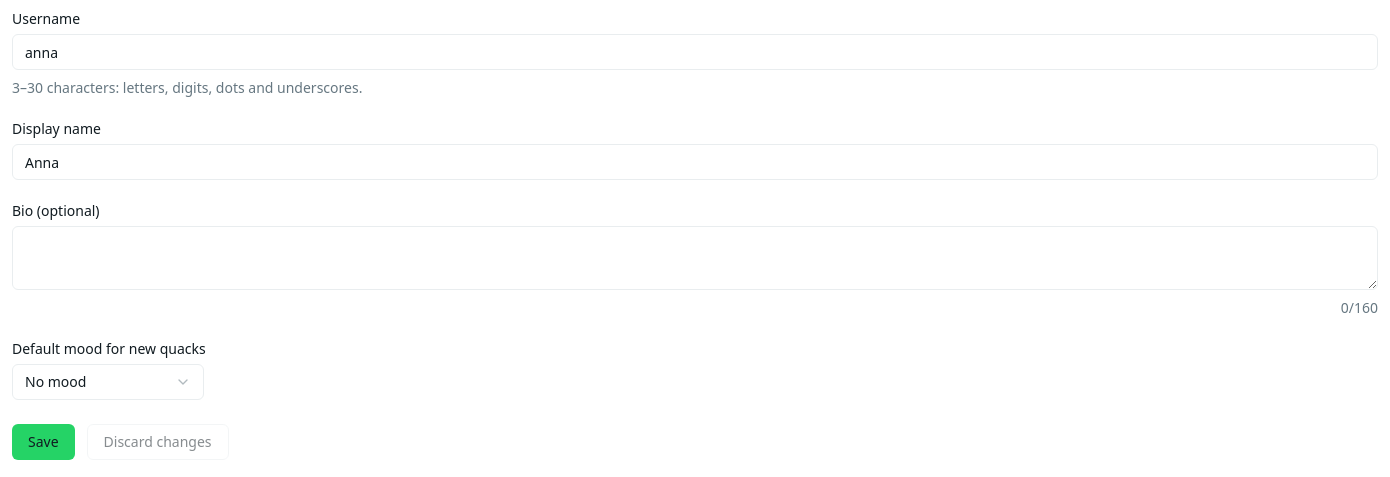
Scenario: ProfileForm › discards changes back to the saved values
Type "_x" into the field labelled "Username" at (695, 52), box [12, 34, 1378, 70]
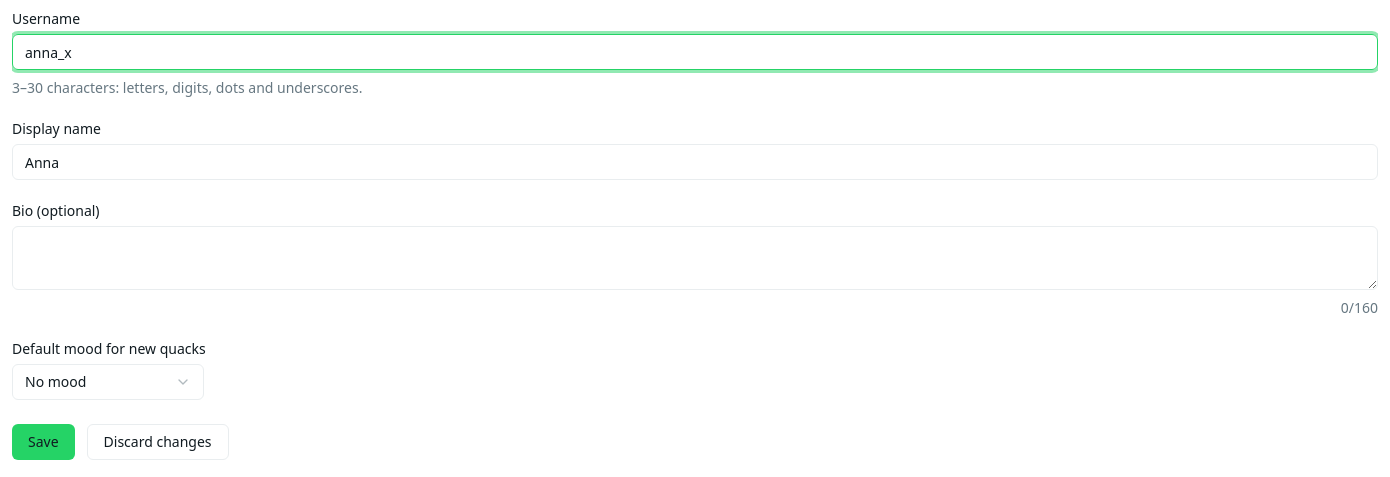
Click the button "Discard changes" at (158, 442), box [87, 424, 229, 460]
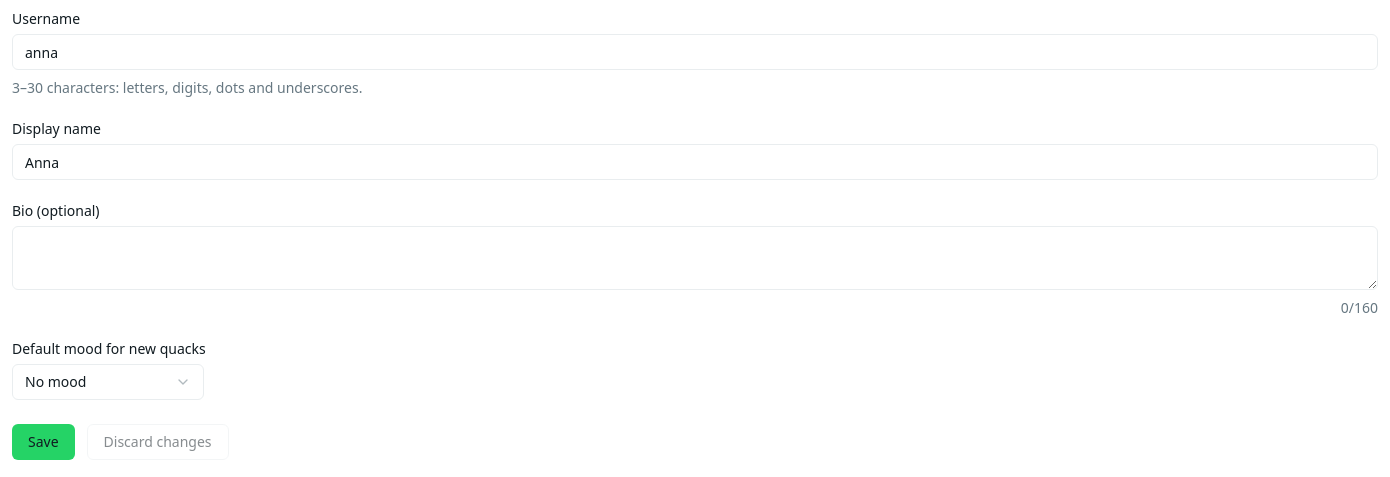
Expected: the field labelled "Username" holds "anna", [12, 34, 1378, 70]
